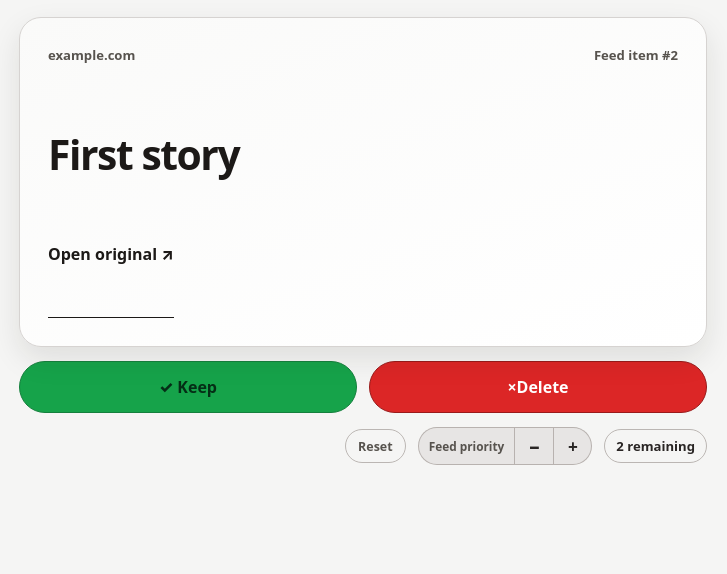
Scenario: ReaderPage deletion › returns a final failed deletion as current without consuming the next card
Expected: the heading "First story" is shown, [48, 126, 239, 182]
Click the button "× Delete": click(538, 387) [369, 361, 707, 413]
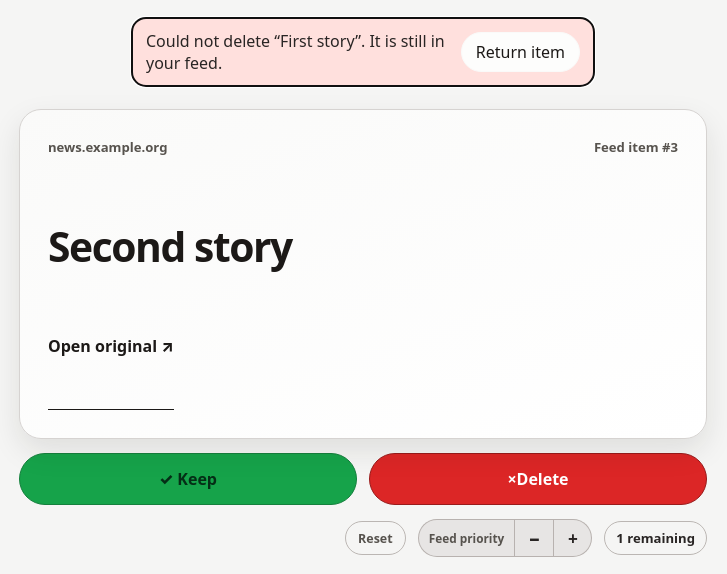
Result: the heading "Second story" is shown at [48, 218, 292, 274]
Press Enter in the button "Could not delete “First story”", box [131, 17, 595, 87]
Click the button "Could not delete “First story”": click(363, 52) [131, 17, 595, 87]
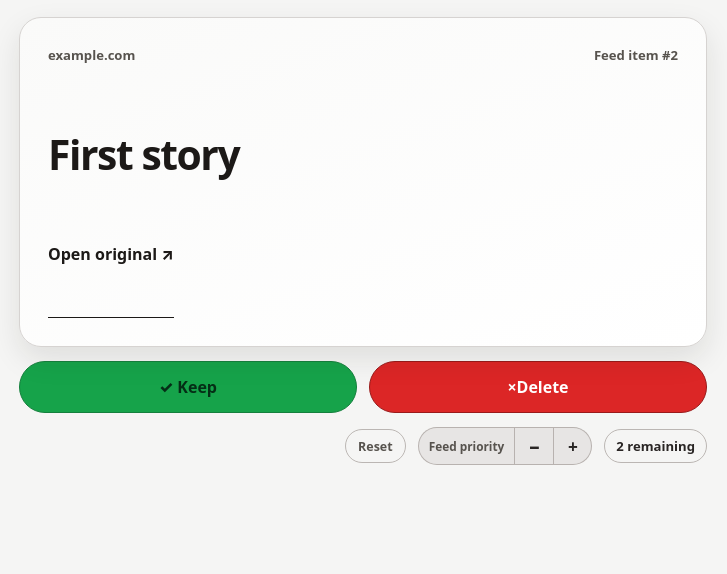
Result: the message "Could not delete “First story”. It is still in your feed. Return item" is gone
Result: the heading "First story" is shown at [48, 126, 239, 182]
Click the button "✓ Keep": click(188, 387) [19, 361, 357, 413]
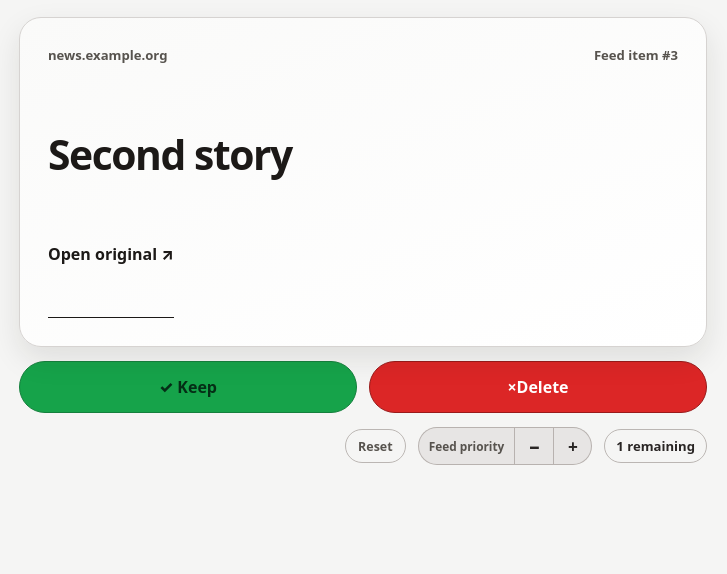
Result: the heading "Second story" is shown at [48, 126, 292, 182]
